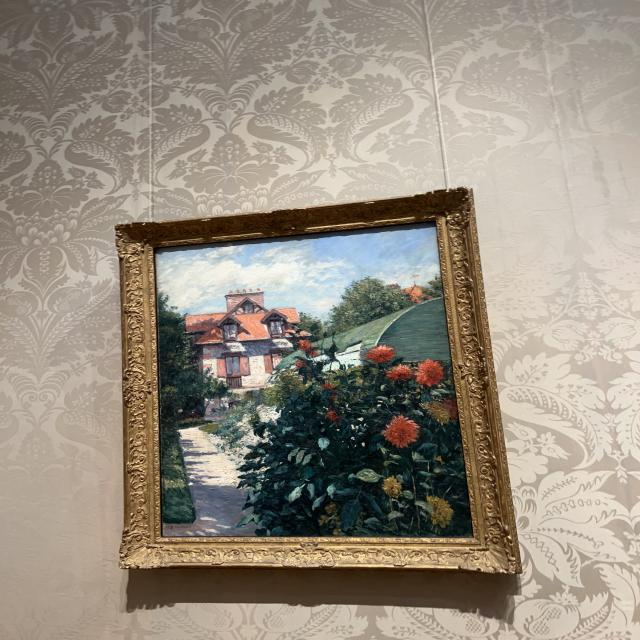summer: (158, 229, 468, 535)
